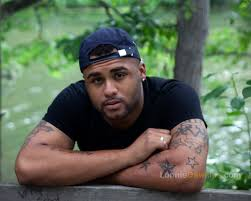black_male: (75, 47, 153, 128)
